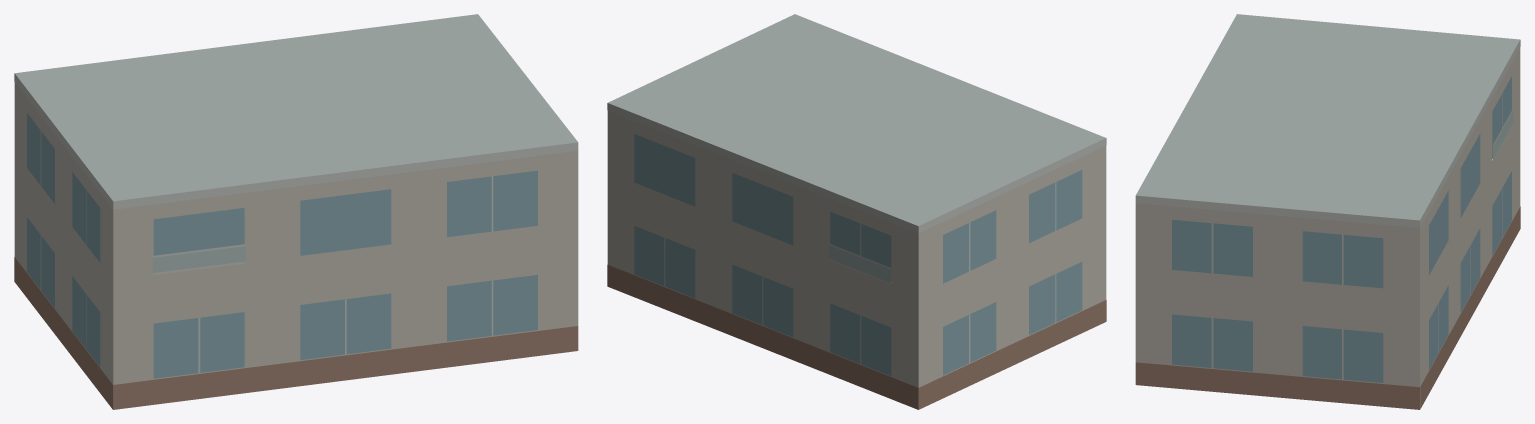
Rendered from survey-upis-32790992.glb.
The picture shows the model from 3 angles, left to right: view 1: azimuth 30°, elevation 25°; view 2: azimuth 150°, elevation 25°; view 3: azimuth 270°, elevation 25°; orthographic projection. The views are drawn at different scales.
Visible parts, largest first — view 1: survey-upis-32790992.tmp; view 2: survey-upis-32790992.tmp; view 3: survey-upis-32790992.tmp.
Part boxes in pixels (<box>): survey-upis-32790992.tmp: <box>14,14,578,409</box>; survey-upis-32790992.tmp: <box>607,14,1106,409</box>; survey-upis-32790992.tmp: <box>1135,14,1520,409</box>.
Size of the model in its own units: 14.27 by 6.1 by 11.24.
